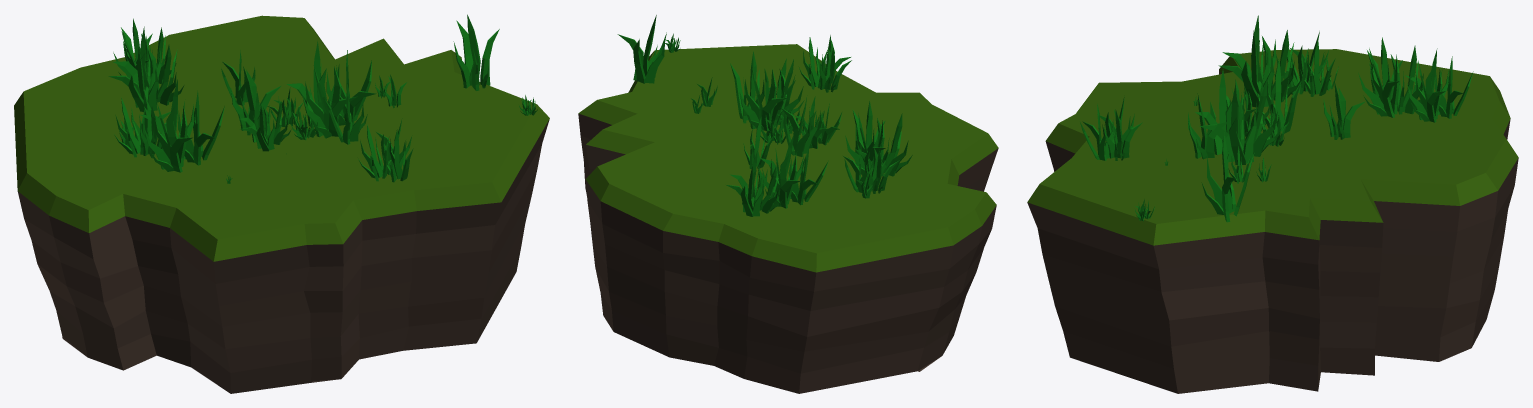
The model's file is Hackaton_Cliff.fbx.
3 renders of one model, left to right at view 1: azimuth 30°, elevation 25°; view 2: azimuth 150°, elevation 25°; view 3: azimuth 270°, elevation 25°, orthographic. The views are drawn at different scales.
Visible parts, largest first — view 1: Cliff4, Cliff4|Big_Grass|Dupli|2, Cliff4|Big_Grass|Dupli|10, Cliff4|Big_Grass|Dupli|4, Cliff4|Big_Grass|Dupli|16, Cliff4|Grass|Dupli|5, Cliff4|Big_Grass|Dupli|, Cliff4|Big_Grass|Dupli|12, Cliff4|Big_Grass|Dupli|14, Cliff4|Grass|Dupli|17, Cliff4|Grass|Dupli|9, Cliff4|Grass|Dupli|13 (+1 smaller); view 2: Cliff4, Cliff4|Big_Grass|Dupli|10, Cliff4|Big_Grass|Dupli|2, Cliff4|Big_Grass|Dupli|4, Cliff4|Big_Grass|Dupli|14, Cliff4|Big_Grass|Dupli|16, Cliff4|Big_Grass|Dupli|, Cliff4|Grass|Dupli|5, Cliff4|Grass|Dupli|17, Cliff4|Big_Grass|Dupli|12, Cliff4|Grass|Dupli|13, Cliff4|Big_Grass|Dupli|8; view 3: Cliff4, Cliff4|Big_Grass|Dupli|10, Cliff4|Big_Grass|Dupli|2, Cliff4|Big_Grass|Dupli|4, Cliff4|Big_Grass|Dupli|14, Cliff4|Big_Grass|Dupli|16, Cliff4|Big_Grass|Dupli|, Cliff4|Grass|Dupli|5, Cliff4|Grass|Dupli|17, Cliff4|Grass|Dupli|13, Cliff4|Grass|Dupli|9, Cliff4|Big_Grass|Dupli|12.
Boxes of the visible parts, box(x1,y1,x2,y2) form: Cliff4: box(14, 15, 549, 393); Cliff4|Big_Grass|Dupli|2: box(140, 79, 224, 172); Cliff4|Big_Grass|Dupli|10: box(286, 41, 376, 138); Cliff4|Big_Grass|Dupli|4: box(108, 26, 184, 111); Cliff4|Big_Grass|Dupli|16: box(358, 118, 413, 182); Cliff4|Grass|Dupli|5: box(453, 14, 499, 90); Cliff4|Big_Grass|Dupli|: box(114, 91, 170, 158); Cliff4|Big_Grass|Dupli|12: box(239, 91, 291, 151); Cliff4|Big_Grass|Dupli|14: box(113, 18, 176, 84); Cliff4|Grass|Dupli|17: box(230, 66, 280, 135); Cliff4|Grass|Dupli|9: box(324, 84, 367, 144); Cliff4|Grass|Dupli|13: box(221, 50, 255, 105); Cliff4: box(578, 44, 998, 393); Cliff4|Big_Grass|Dupli|10: box(730, 51, 804, 130); Cliff4|Big_Grass|Dupli|2: box(845, 101, 912, 176); Cliff4|Big_Grass|Dupli|4: box(760, 134, 828, 208); Cliff4|Big_Grass|Dupli|14: box(726, 150, 782, 216); Cliff4|Big_Grass|Dupli|16: box(799, 35, 851, 92); Cliff4|Big_Grass|Dupli|: box(843, 135, 899, 193); Cliff4|Grass|Dupli|5: box(617, 15, 666, 83); Cliff4|Grass|Dupli|17: box(780, 95, 819, 156); Cliff4|Big_Grass|Dupli|12: box(794, 96, 842, 148); Cliff4|Grass|Dupli|13: box(743, 116, 774, 168); Cliff4|Big_Grass|Dupli|8: box(760, 112, 790, 144); Cliff4: box(1027, 49, 1518, 393); Cliff4|Big_Grass|Dupli|10: box(1195, 69, 1281, 164); Cliff4|Big_Grass|Dupli|2: box(1218, 15, 1302, 107); Cliff4|Big_Grass|Dupli|4: box(1358, 37, 1423, 117); Cliff4|Big_Grass|Dupli|14: box(1405, 48, 1473, 122); Cliff4|Big_Grass|Dupli|16: box(1080, 96, 1142, 160); Cliff4|Big_Grass|Dupli|: box(1274, 31, 1335, 96); Cliff4|Grass|Dupli|5: box(1201, 132, 1254, 222); Cliff4|Grass|Dupli|17: box(1262, 58, 1301, 133); Cliff4|Grass|Dupli|13: box(1323, 81, 1365, 139); Cliff4|Grass|Dupli|9: box(1188, 93, 1230, 159); Cliff4|Big_Grass|Dupli|12: box(1226, 79, 1270, 132).
Bounding box in the file's own units: 435 × 263 × 417.
